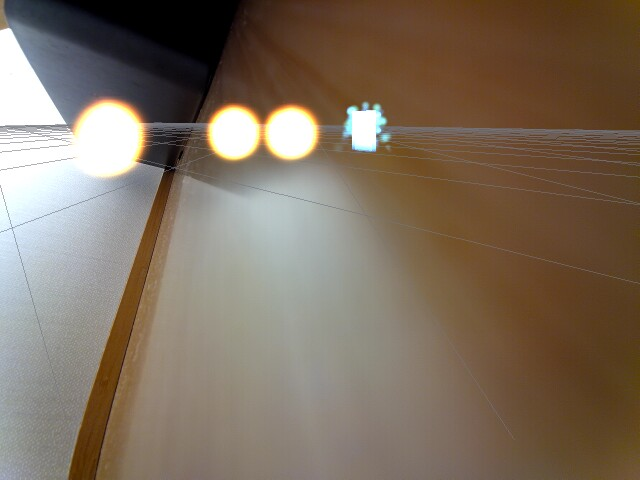firebig: (61, 90, 150, 183)
